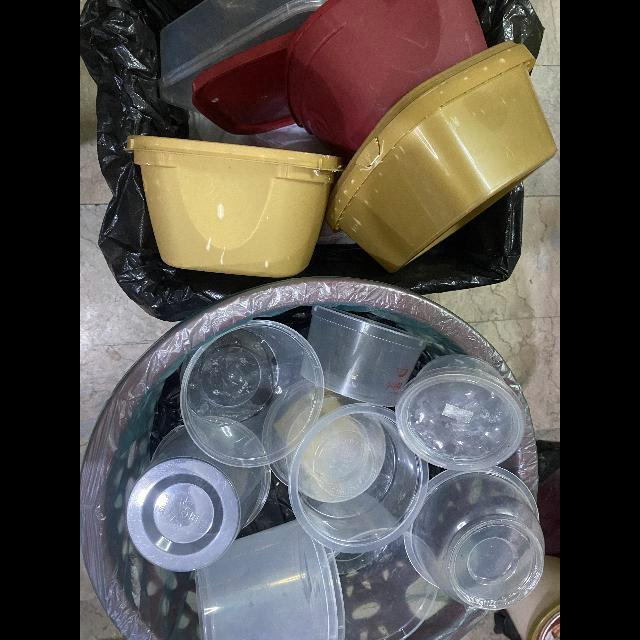plastic_container: (324, 42, 556, 276), (282, 0, 488, 151), (126, 135, 342, 279), (270, 389, 429, 554), (178, 320, 324, 469), (125, 424, 270, 572), (404, 467, 547, 610), (158, 0, 327, 115), (196, 521, 345, 640), (397, 355, 528, 473), (308, 305, 432, 407), (337, 534, 437, 640)
